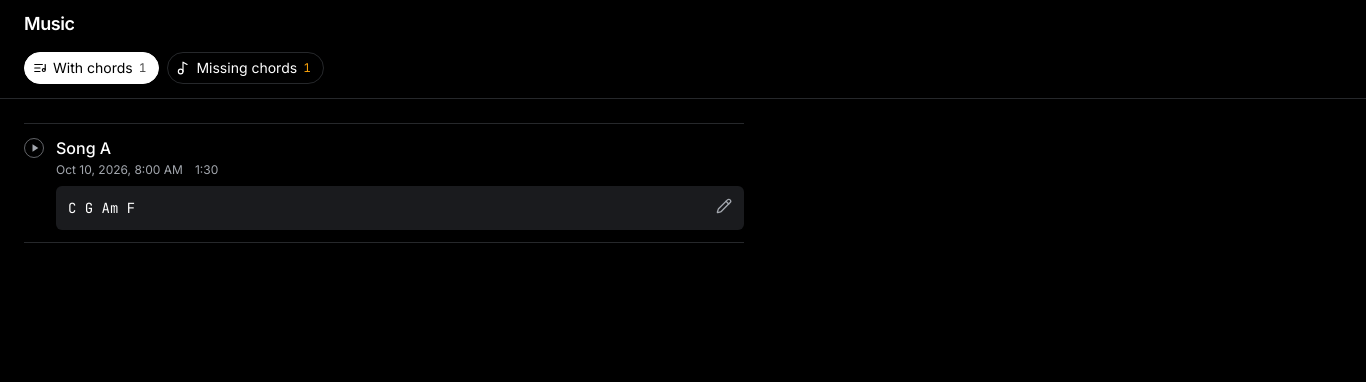
Test: Music › shows every song with its chords, and plays one song at a time
Check: the text "C G Am F" is shown, box [56,186,744,230]
Click the button named "Play Song A".
click(34, 148)  # box [24,138,44,158]
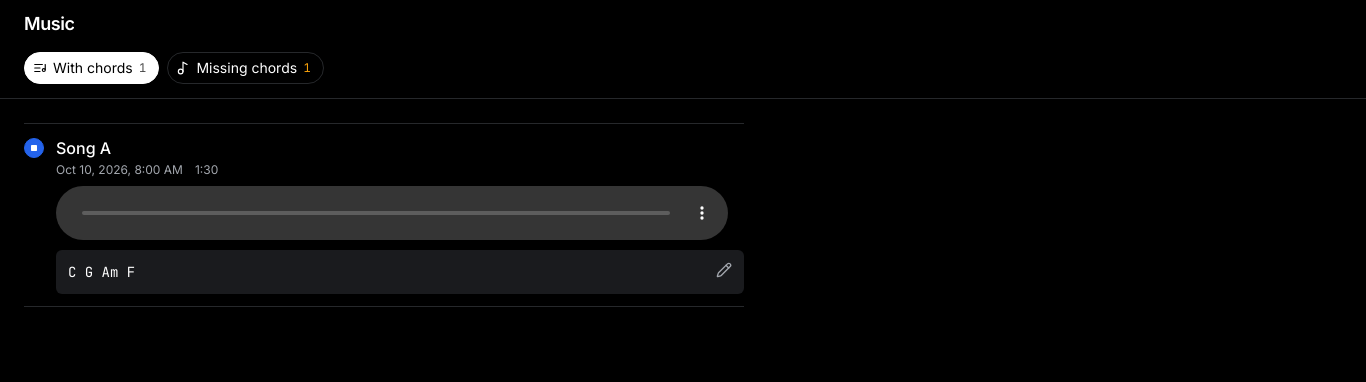
Click the button named "Close the player for Song A".
click(34, 148)  # box [24,138,44,158]
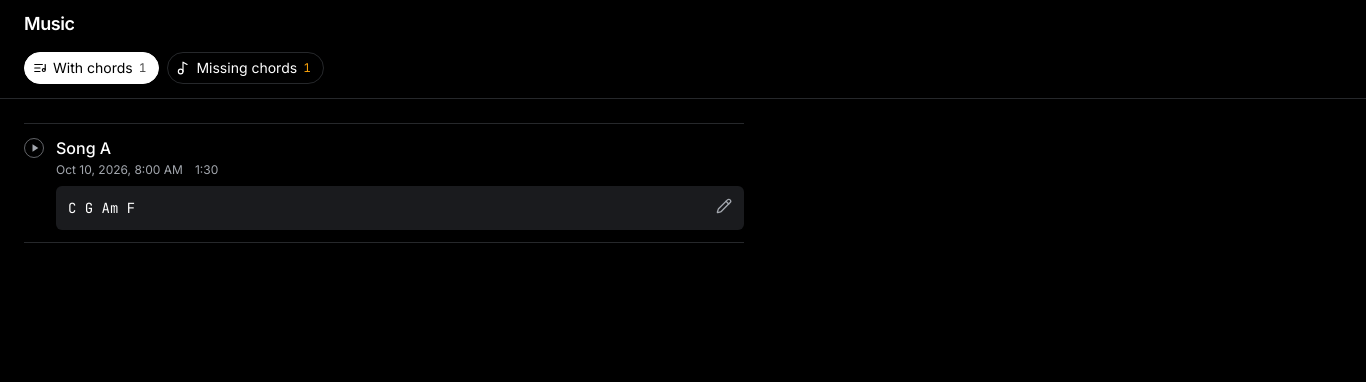
Click the button named "Edit chords for Song A".
click(724, 206)  # box [708,190,740,222]
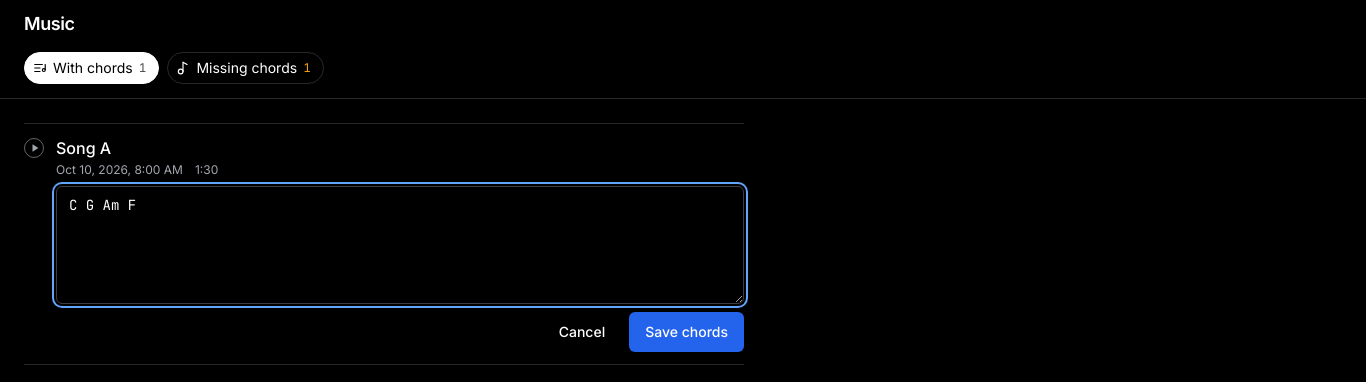
Check: the text box named "Chords for Song A" holds "C G Am F", box [56,186,744,304]
